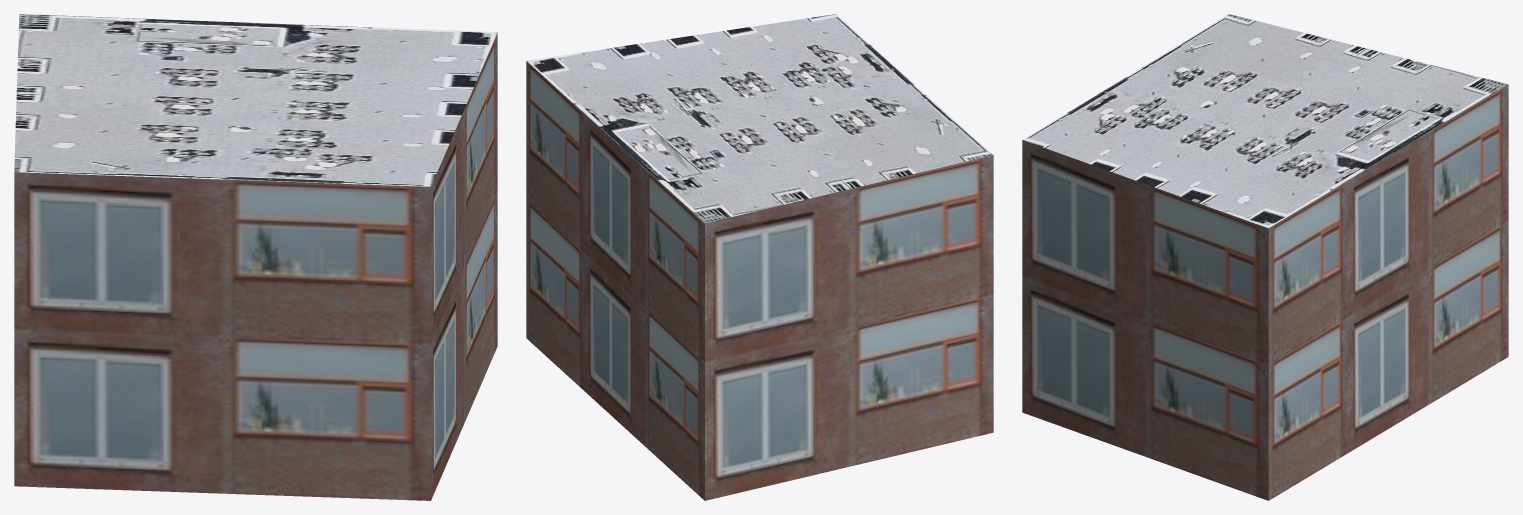
Rendered from ResTex__3455.fbx.
3 views of the same model, side by side, from view 1: azimuth 30°, elevation 25°; view 2: azimuth 150°, elevation 25°; view 3: azimuth 270°, elevation 25° (orthographic). The views are drawn at different scales.
Parts seen in each view (by area): view 1: CityEngineMaterial_19_m, CityEngineMaterial_8_m; view 2: CityEngineMaterial_19_m, CityEngineMaterial_8_m; view 3: CityEngineMaterial_19_m, CityEngineMaterial_8_m.
Part boxes in pixels (left/top/right/bottom): CityEngineMaterial_19_m: left=14, top=33, right=497, bottom=500; CityEngineMaterial_8_m: left=14, top=14, right=497, bottom=186; CityEngineMaterial_19_m: left=526, top=61, right=993, bottom=500; CityEngineMaterial_8_m: left=526, top=14, right=993, bottom=223; CityEngineMaterial_19_m: left=1022, top=84, right=1508, bottom=500; CityEngineMaterial_8_m: left=1023, top=14, right=1508, bottom=228.
Bounding box in the file's own units: 10.12 × 6 × 9.7.
Materials: 2 (2 with a texture image).
